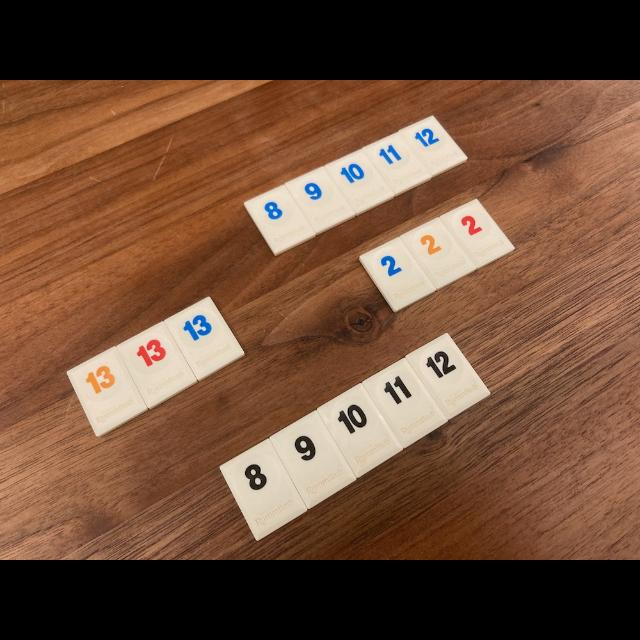black_10: (318, 384, 402, 478)
black_11: (362, 359, 448, 448)
black_12: (406, 334, 490, 419)
black_8: (220, 439, 306, 540)
black_9: (271, 411, 356, 509)
blue_10: (325, 150, 394, 215)
blue_11: (362, 134, 431, 195)
blue_12: (399, 116, 468, 176)
blue_13: (164, 298, 244, 380)
blue_2: (359, 238, 436, 312)
blue_8: (244, 185, 316, 255)
blue_9: (286, 168, 355, 235)
orange_13: (69, 346, 148, 436)
orange_2: (401, 218, 476, 289)
red_13: (118, 322, 196, 408)
red_2: (441, 199, 514, 268)
